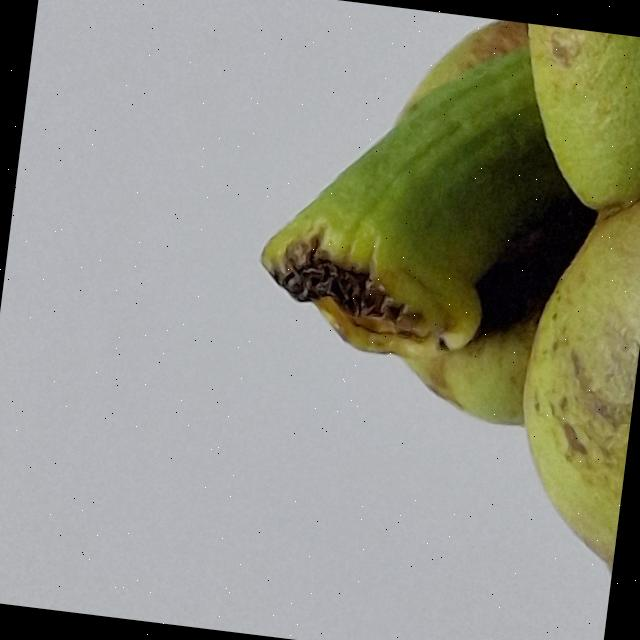mangosteen: (157, 0, 640, 640)
